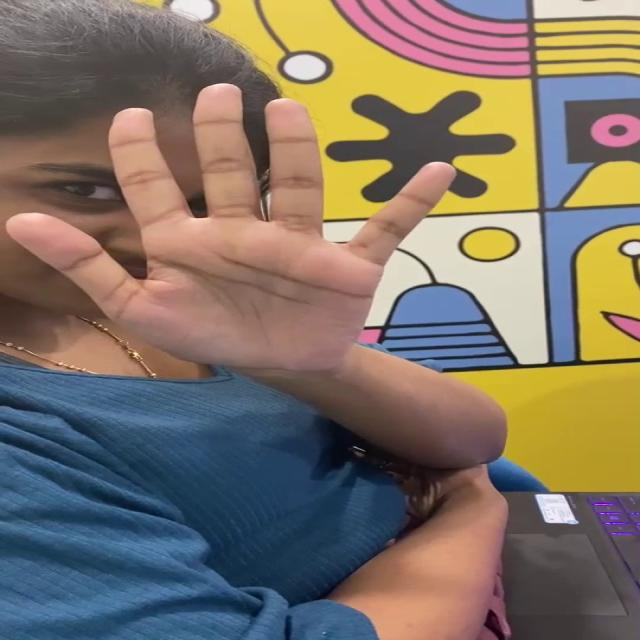no-gloves: (0, 63, 464, 398)
